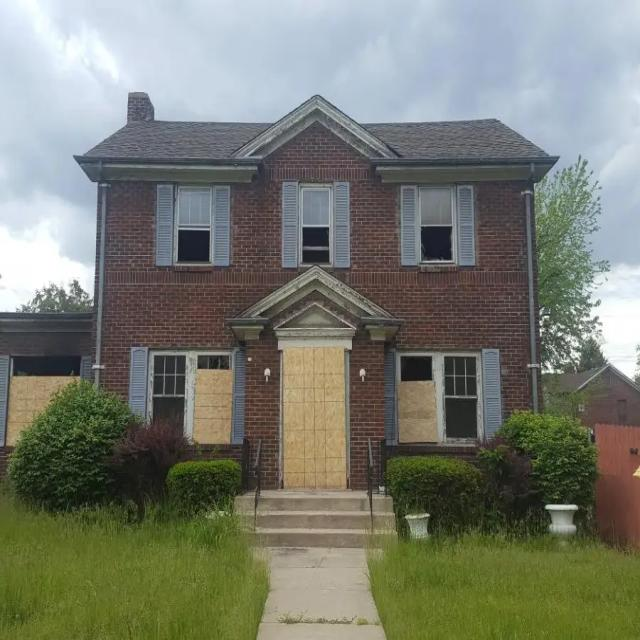House: (0, 90, 561, 546)
